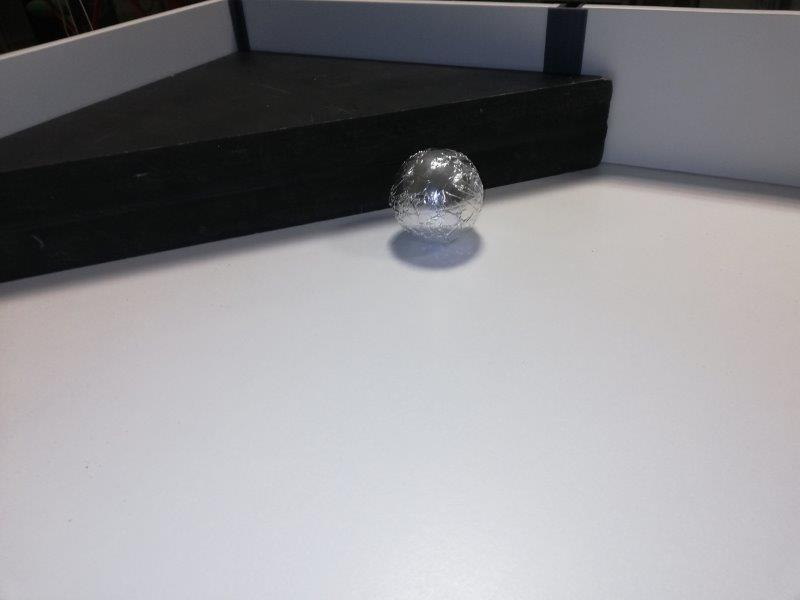bianca: (390, 149, 479, 242)
